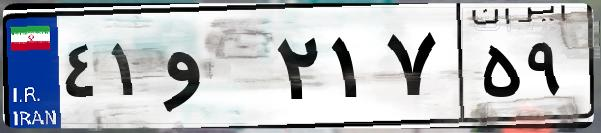1: (330, 28, 385, 110), (110, 28, 158, 98)
2: (270, 28, 330, 110)
4: (57, 26, 110, 100)
5: (475, 38, 525, 113)
7: (385, 28, 445, 110)
9: (525, 38, 570, 115)
و: (158, 20, 270, 120)
